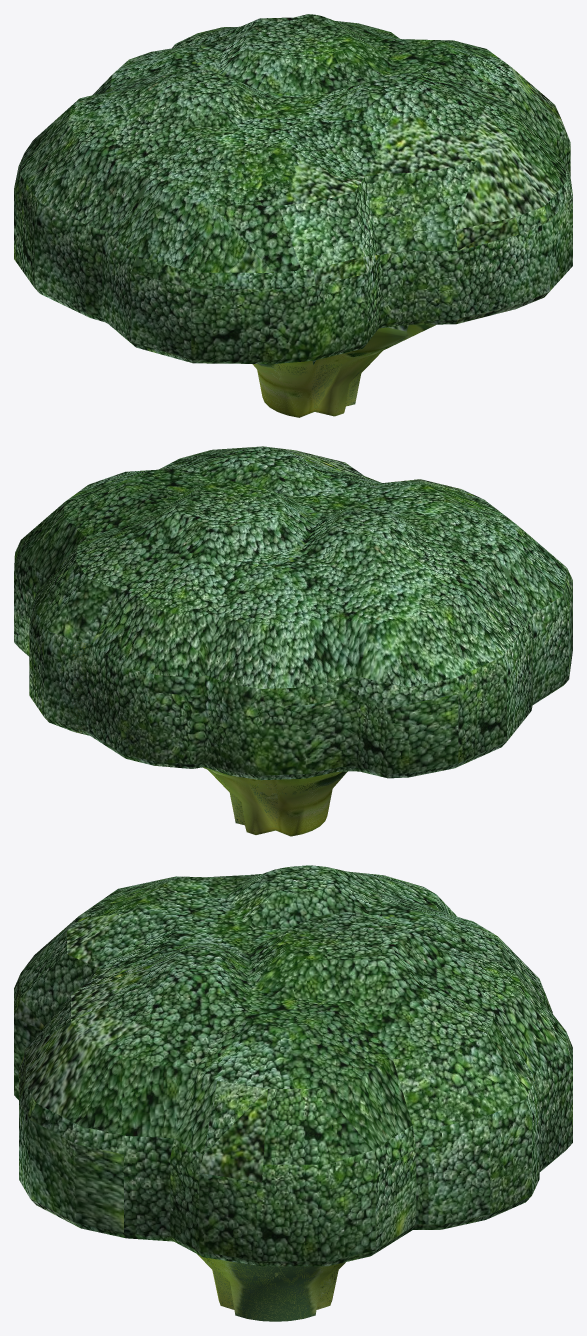
Rendered from brocoli.dae.
3 views of the same model, one above another, from view 1: azimuth 30°, elevation 25°; view 2: azimuth 150°, elevation 25°; view 3: azimuth 270°, elevation 25° (orthographic). The views are drawn at different scales.
Parts seen in each view (by area): view 1: group_0 (×2); view 2: group_0 (×3); view 3: group_0 (×2).
Part boxes in pixels (bbox=[...]): group_0 (×2): bbox=[14, 14, 572, 417]; group_0 (×3): bbox=[14, 446, 572, 836]; group_0 (×2): bbox=[14, 865, 572, 1321].
Bounding box in the file's own units: 6.01 × 5.23 × 3.84.
2 materials, 1 textured.
